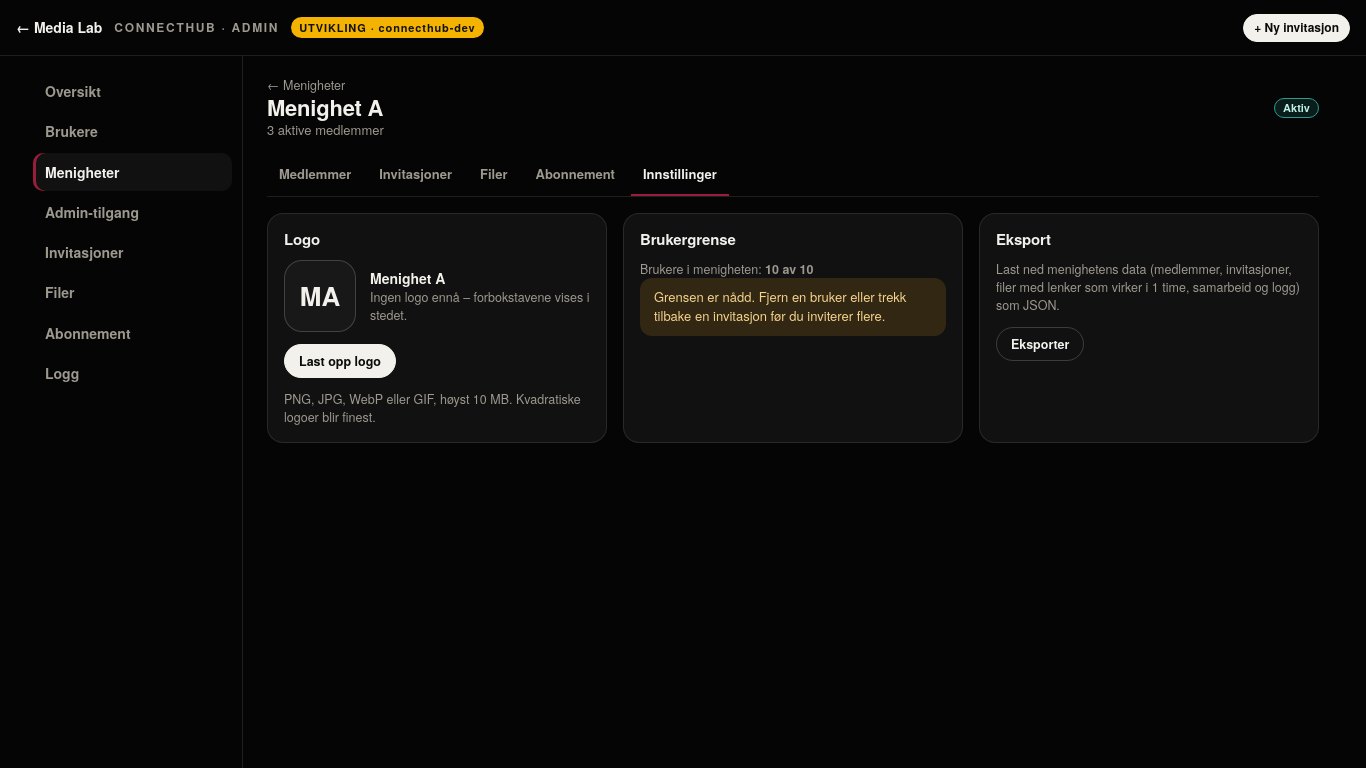
Test case: Brukergrense › Ny invitasjon: knappen er sperret når grensen er nådd
Expected: the text "Brukere i menigheten: 10 av 10" is shown, x1=640 y1=260 x2=814 y2=278
Click the button "+ Ny invitasjon" at [1297, 28], box x1=1243 y1=14 x2=1350 y2=42
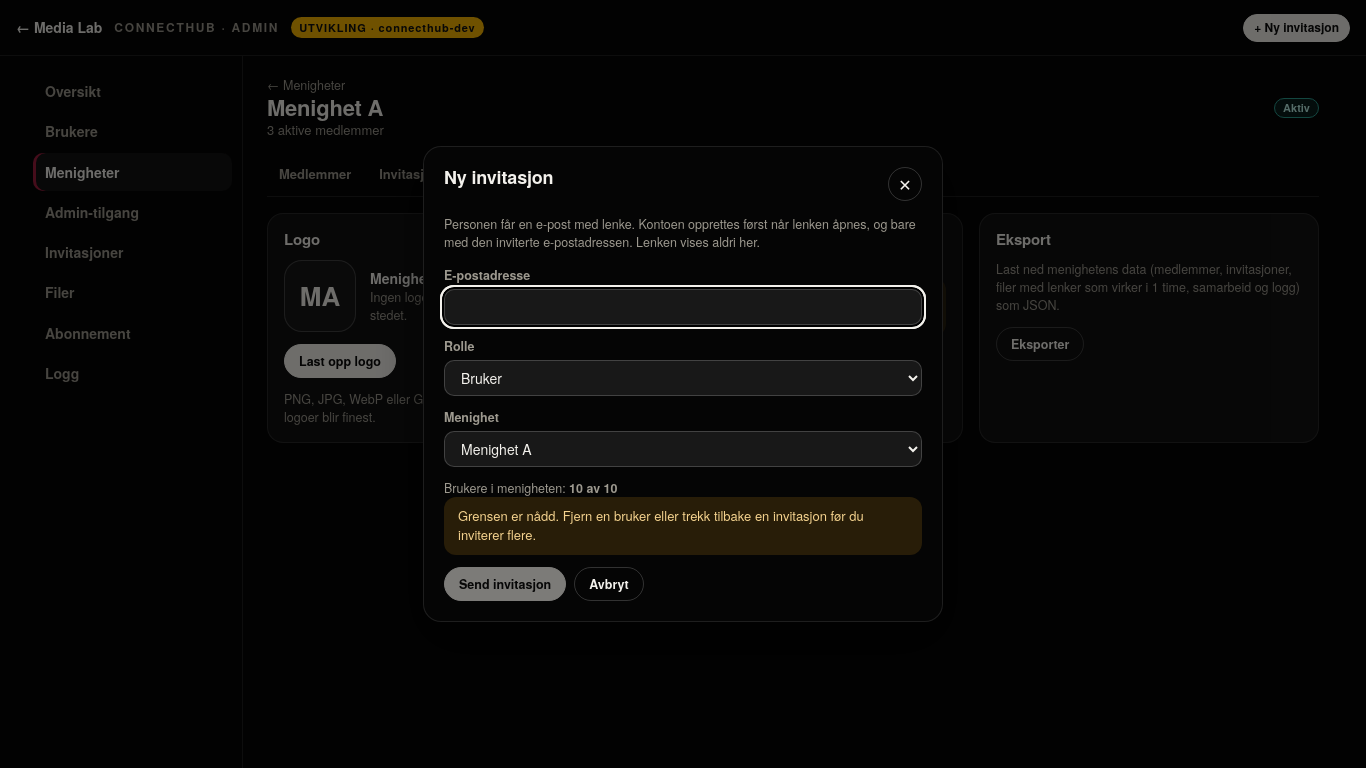
Expected: the button "Send invitasjon" is disabled, x1=444 y1=567 x2=566 y2=601
Expected: the text "Grensen er nådd" is shown, x1=458 y1=506 x2=864 y2=544
